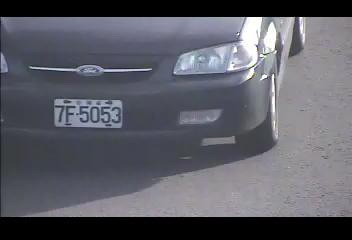plate: (51, 95, 124, 130)
